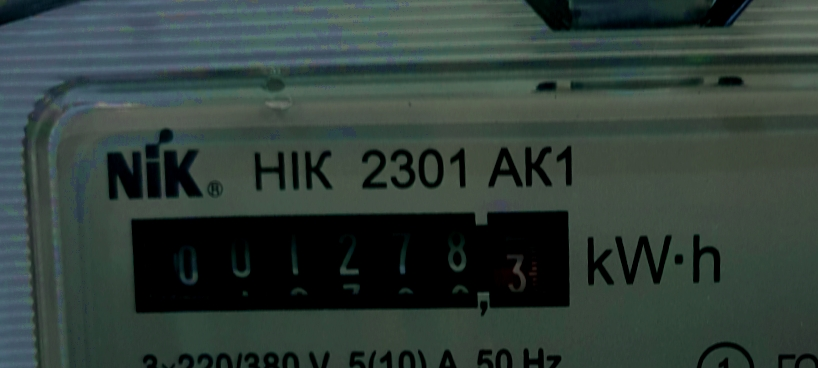0: (171, 238, 201, 288), (224, 232, 251, 280)
1: (283, 229, 302, 278)
2: (331, 228, 360, 276), (498, 222, 525, 244)
3: (499, 247, 527, 292)
7: (386, 227, 410, 276)
8: (440, 226, 468, 274)
screen: (105, 176, 589, 344)
